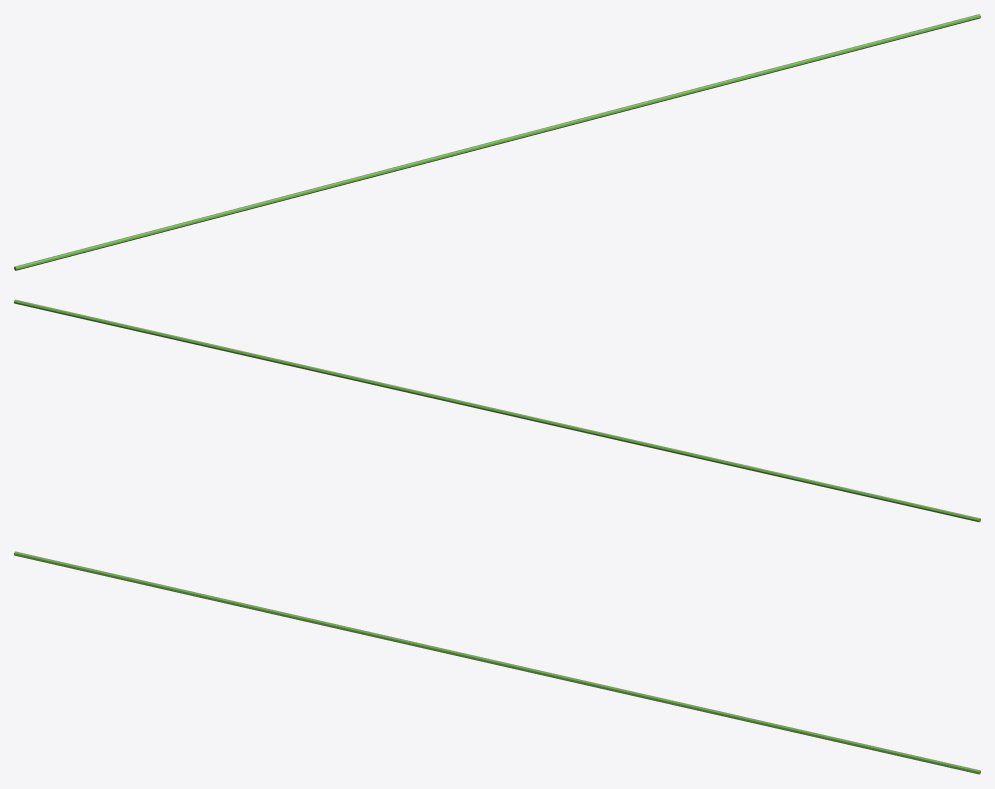
File: data109.glb
3 renders of one model, top to bottom at view 1: azimuth 30°, elevation 25°; view 2: azimuth 150°, elevation 25°; view 3: azimuth 330°, elevation 25°, orthographic. The views are drawn at different scales.
Size of the model in its own units: 7.51 by 0.0298 by 0.2626.
